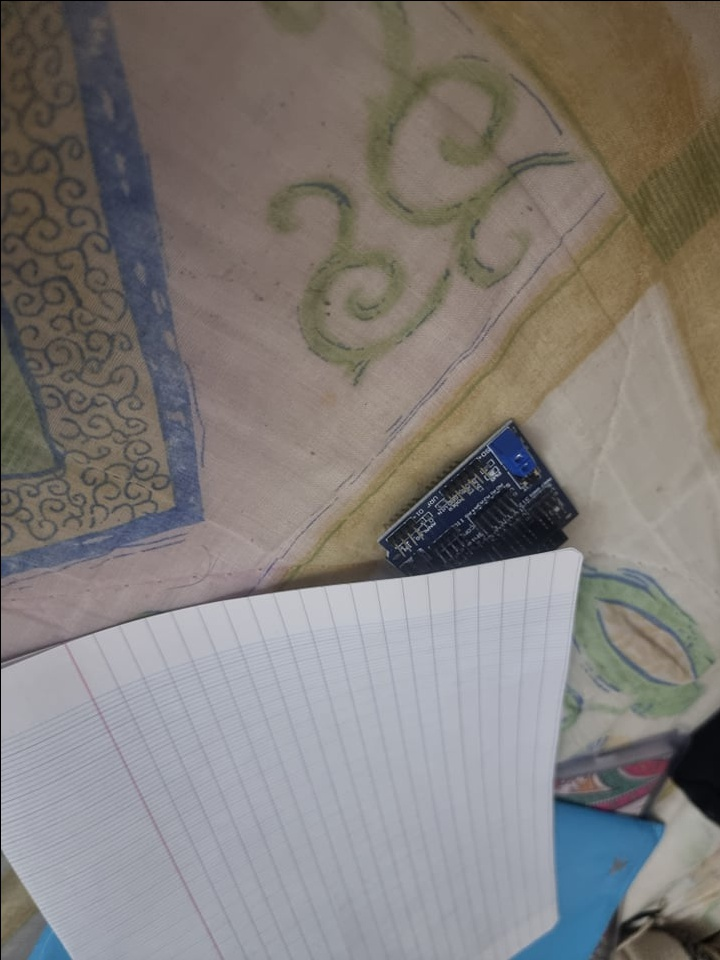5V EXPANSION: (378, 417, 577, 579)
